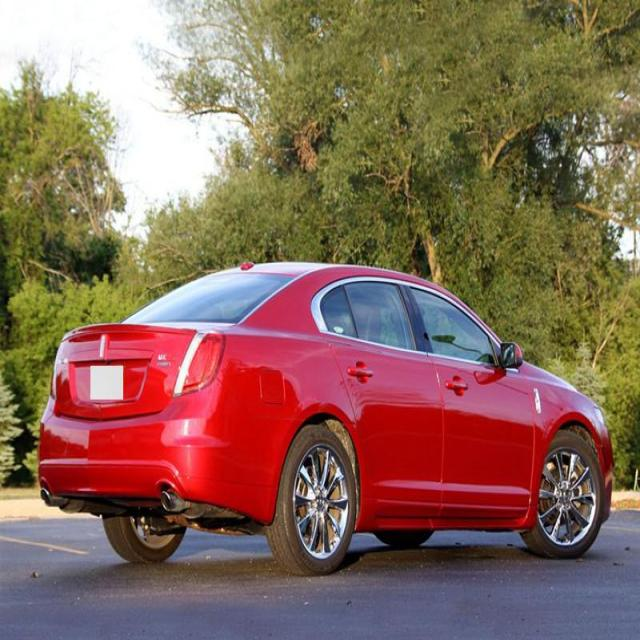back_glass: (112, 270, 302, 325)
back_right_side_light: (172, 325, 226, 405)
door: (312, 279, 456, 520)
front_right_side_door: (404, 274, 537, 525)
front_right_side_mirror: (494, 335, 524, 378)
rear_bumper: (37, 392, 280, 519)
wheel: (269, 427, 357, 571), (521, 431, 602, 558)
